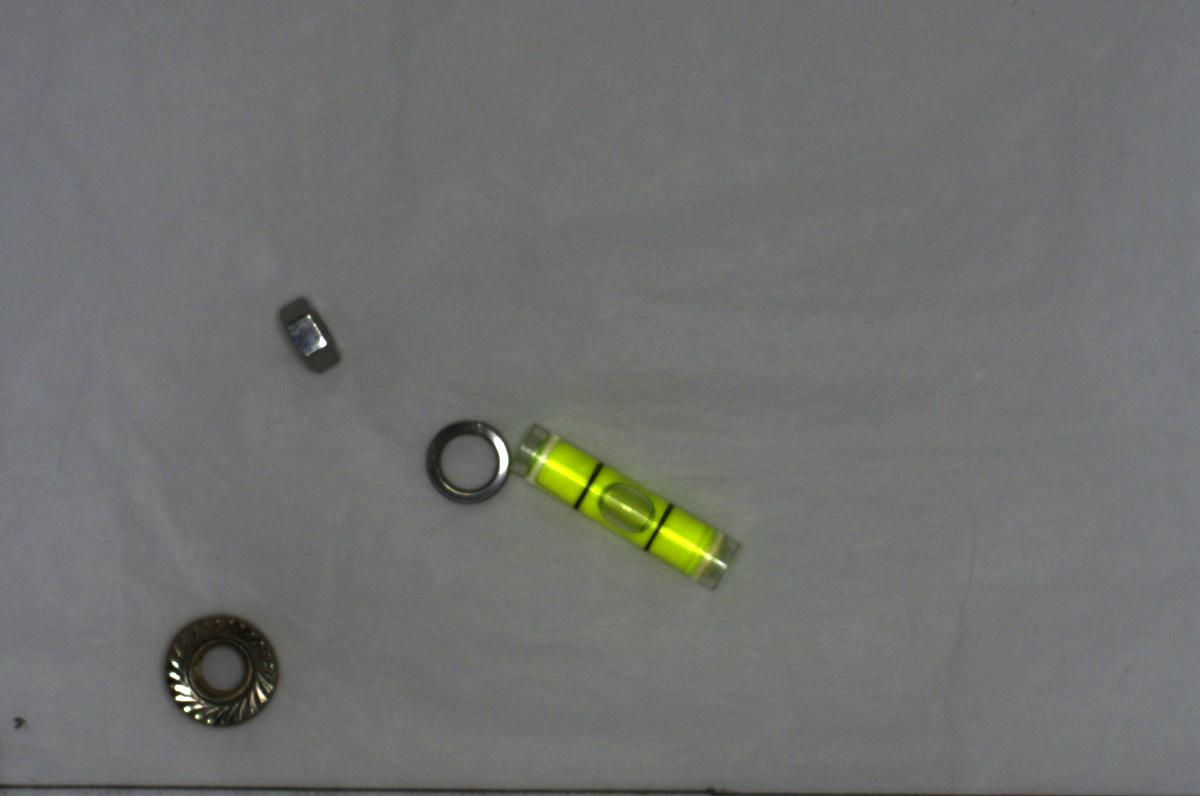Flange nut: (157, 605, 286, 738)
Hexagon nut: (272, 292, 350, 375)
Horizontal bubble: (506, 421, 740, 586)
Spring washer: (417, 407, 517, 508)
